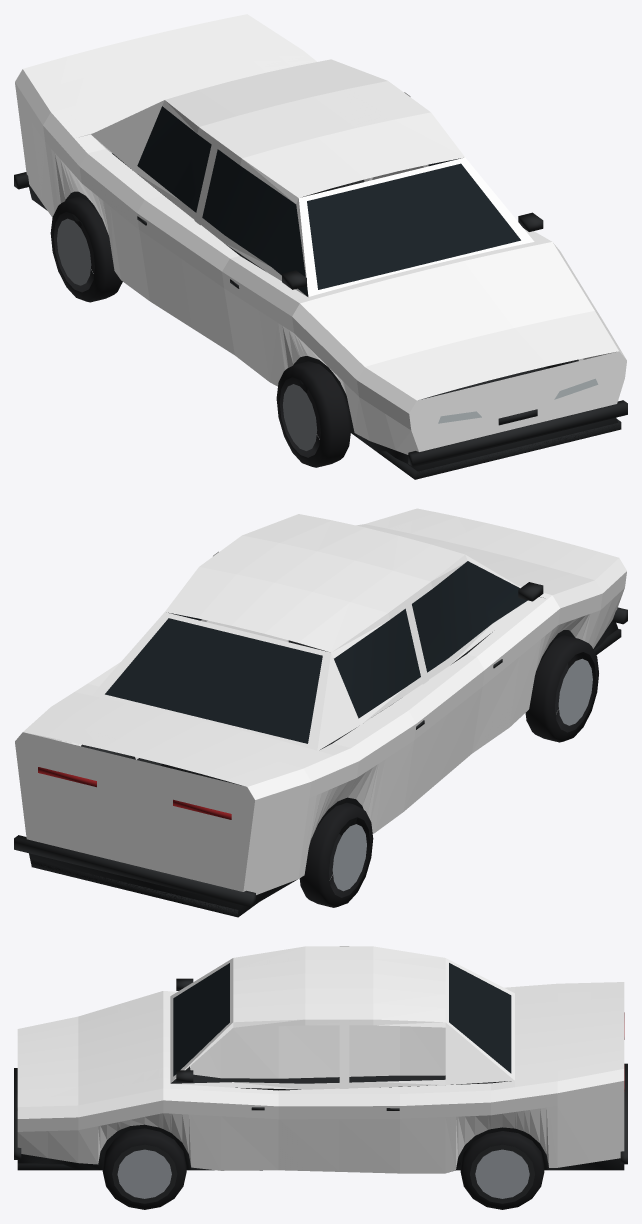
The model's file is keldorf_coluna.glb.
The picture shows the model from 3 angles, top to bottom: view 1: azimuth 30°, elevation 25°; view 2: azimuth 150°, elevation 25°; view 3: azimuth 270°, elevation 25°; orthographic projection. The views are drawn at different scales.
Parts seen in each view (by area): view 1: Body_Paint, Body_Details, Mount_FrontLeft_Wheel_Details, Mount_RearLeft_Wheel_Details; view 2: Body_Paint, Body_Details, Mount_FrontLeft_Wheel_Details, Mount_RearLeft_Wheel_Details; view 3: Body_Paint, Body_Details, Mount_FrontRight_Wheel_Details, Mount_RearRight_Wheel_Details.
Boxes of the visible parts, bbox=[...] form: Body_Paint: bbox=[15, 14, 626, 454]; Body_Details: bbox=[14, 106, 627, 479]; Mount_FrontLeft_Wheel_Details: bbox=[276, 361, 351, 467]; Mount_RearLeft_Wheel_Details: bbox=[50, 196, 122, 302]; Body_Paint: bbox=[15, 508, 626, 894]; Body_Details: bbox=[14, 561, 627, 917]; Mount_FrontLeft_Wheel_Details: bbox=[525, 635, 598, 742]; Mount_RearLeft_Wheel_Details: bbox=[299, 802, 373, 907]; Body_Paint: bbox=[17, 946, 624, 1173]; Body_Details: bbox=[14, 963, 627, 1171]; Mount_FrontRight_Wheel_Details: bbox=[102, 1128, 186, 1209]; Mount_RearRight_Wheel_Details: bbox=[460, 1131, 544, 1209].
Bounding box in the file's own units: 1.95 × 1.5 × 4.68.
Materials: 2 (1 with a texture image).
